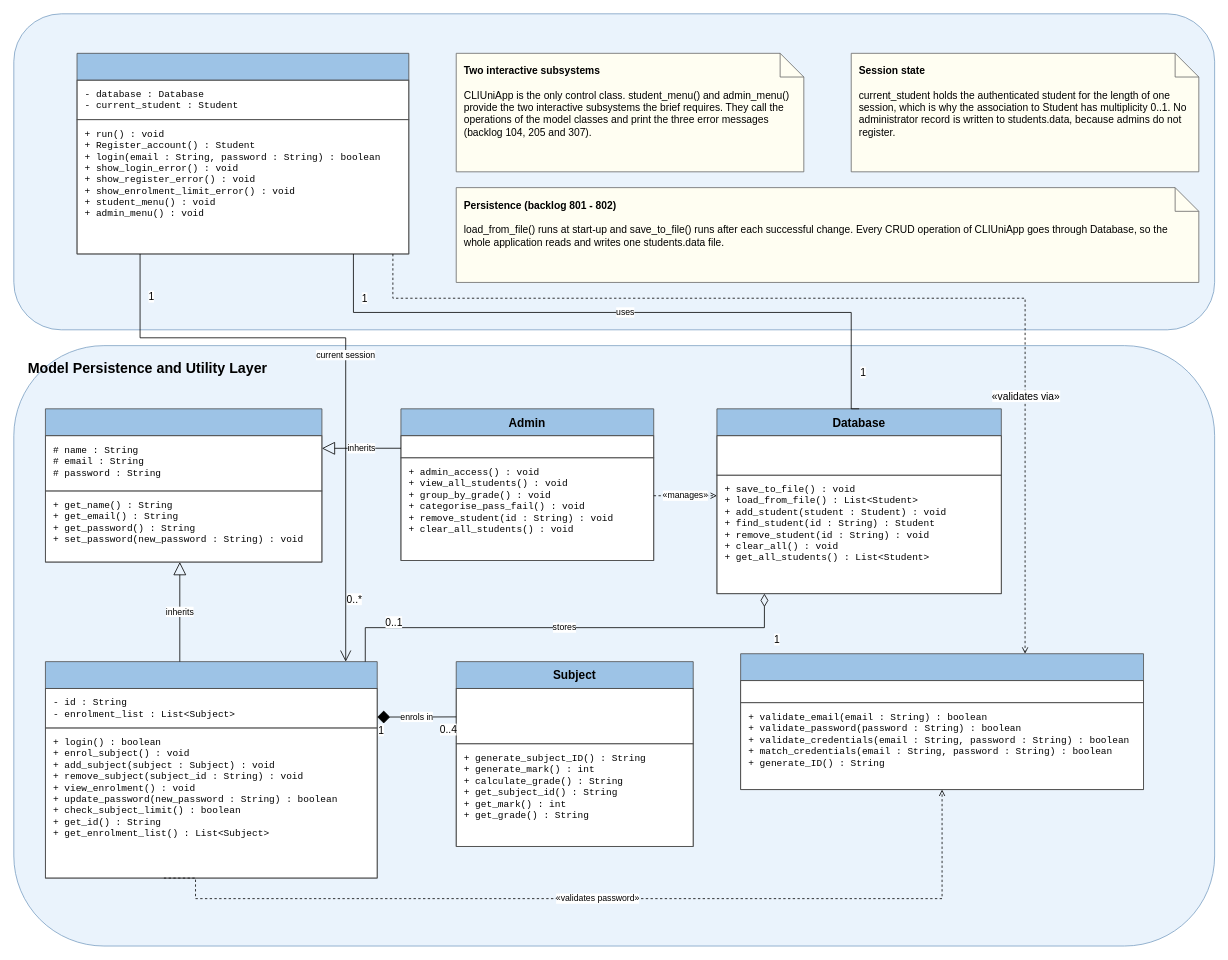
Image size: 1228x960. Some labels were removed from this diagram. Here are the shapes that lost their labels. From the top down, the box of each, then its label:
(76, 53, 409, 254): CLIUniApp
(13, 13, 1215, 330): CLIUniApp control layer
(716, 435, 1001, 475): - file_name : String = "students.data" - students : List<Student>
(45, 408, 322, 562): abstract Person
(455, 688, 693, 744): - subject_id : String - mark : int - grade : String
(740, 653, 1144, 790): utility Validator
(45, 661, 377, 878): Student
